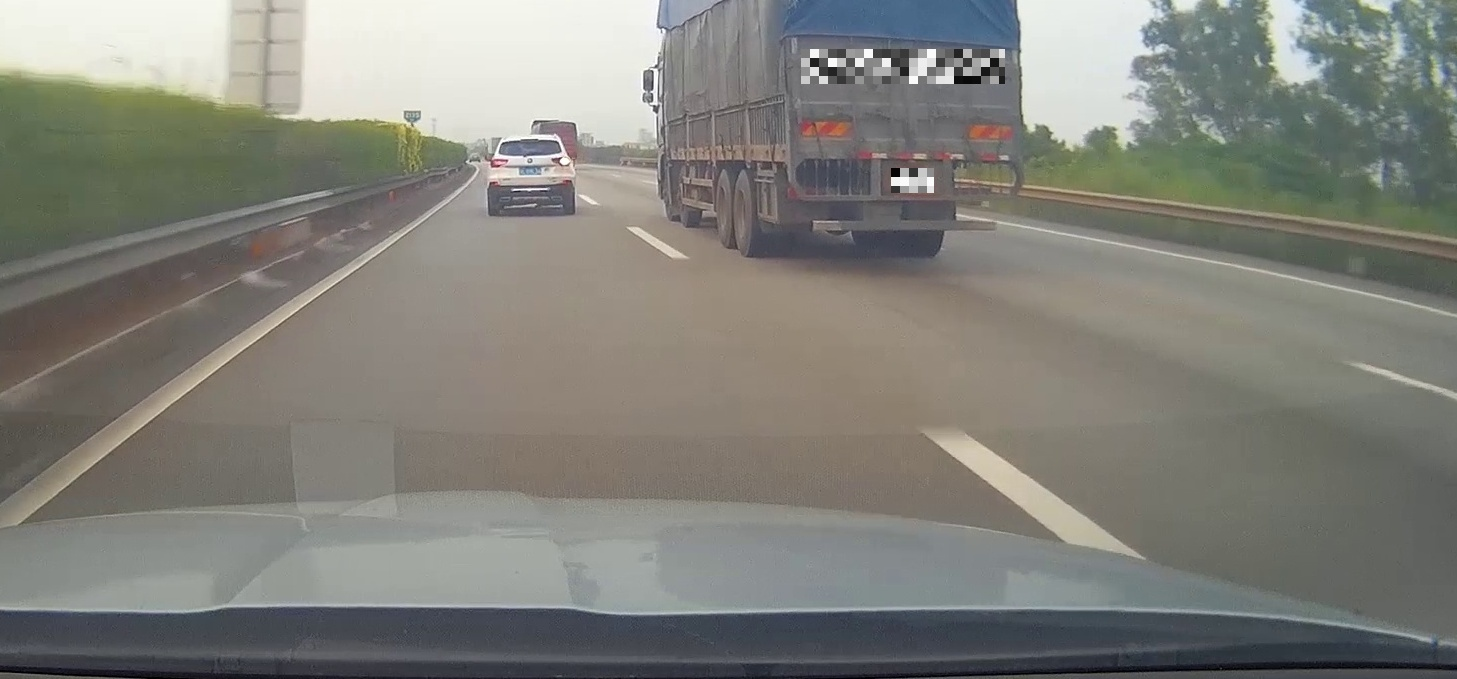L_light: (490, 159, 509, 168)
R_light: (552, 157, 571, 166)
T_light: (520, 138, 539, 142)
day-right: (488, 133, 574, 215)
plate_1: (801, 49, 1005, 84)
plate_2: (891, 168, 934, 193)
